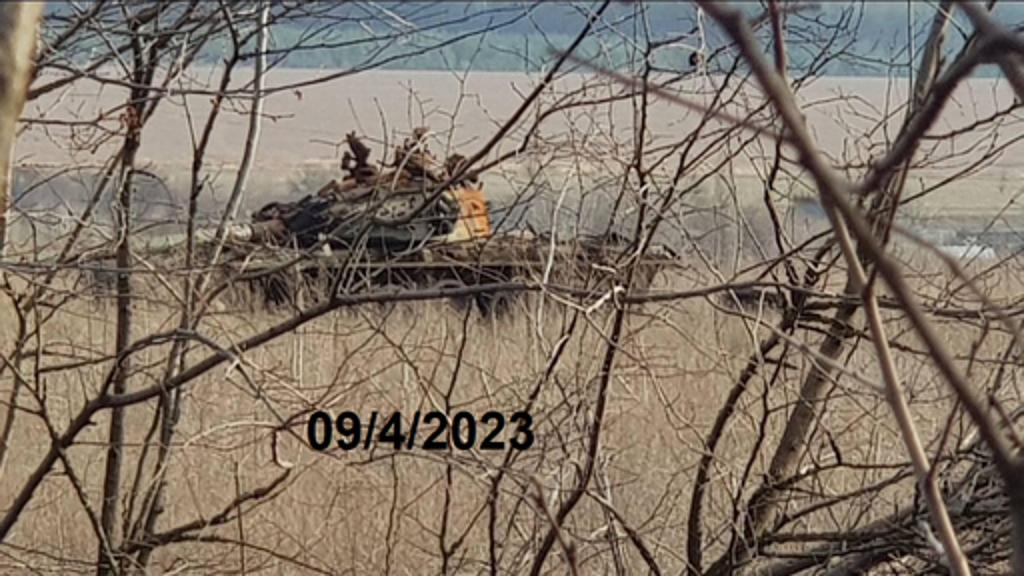TANK: (0, 132, 676, 326)
